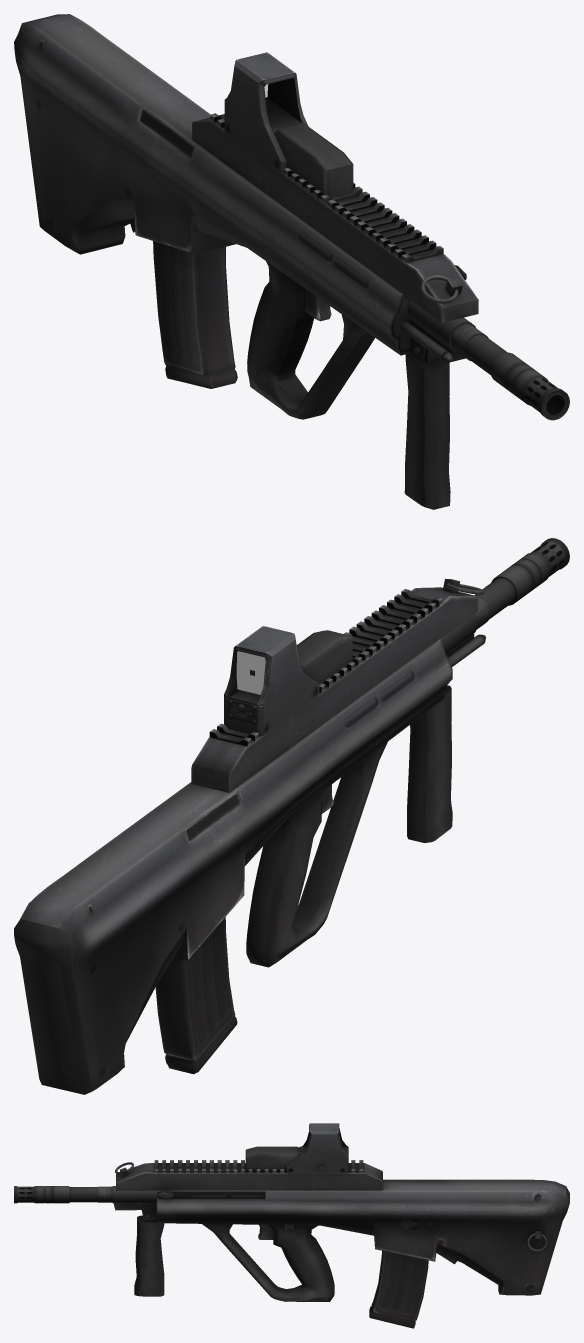
Rendered from Assault_Rifle_A3_v2.fbx.
The picture shows the model from 3 angles, top to bottom: view 1: azimuth 30°, elevation 25°; view 2: azimuth 150°, elevation 25°; view 3: azimuth 270°, elevation 25°; orthographic projection. The views are drawn at different scales.
Parts seen in each view (by area): view 1: body, clip, front_grip; view 2: body, clip, front_grip, scope_lense; view 3: body, clip, front_grip.
Part boxes in pixels (x1,y1,x2,y2): body: (14,14,569,420); clip: (153,241,237,388); front_grip: (404,348,450,509); body: (14,538,569,1094); clip: (155,917,237,1074); front_grip: (407,685,452,842); scope_lense: (236,651,265,694); body: (14,1123,569,1301); clip: (369,1250,428,1328); front_grip: (134,1215,164,1296).
Bounding box in the file's own units: 11.12 × 48.5 × 123.
Materials: 2 (2 with a texture image).
